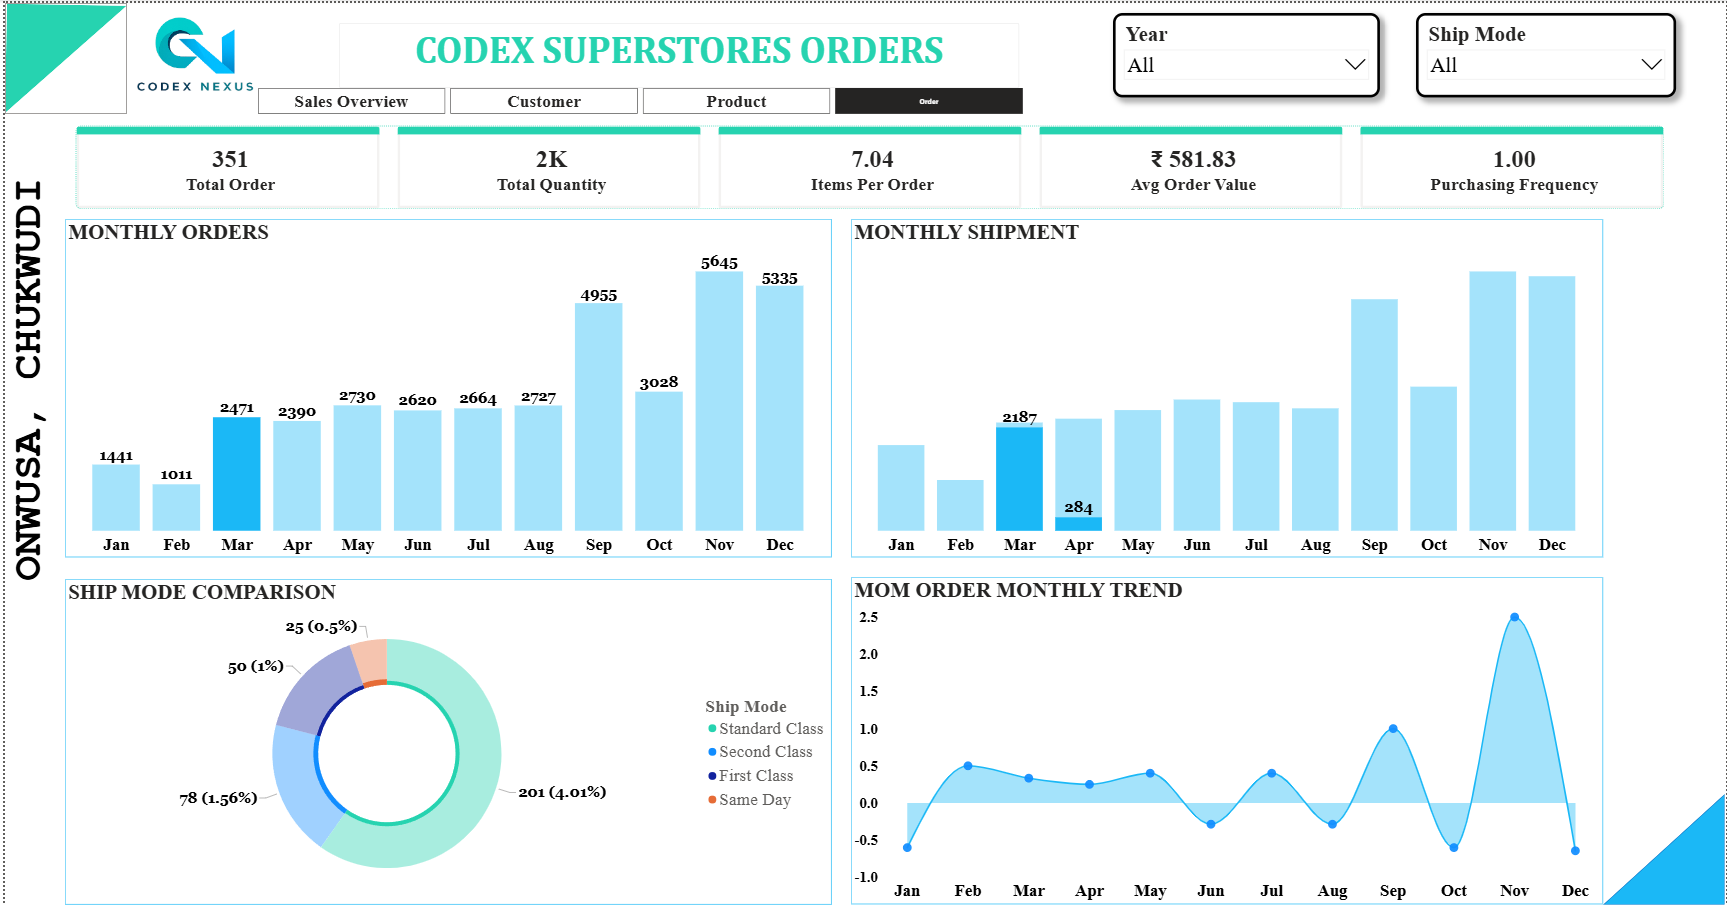

What the dashboard file says about the page in this screenshot:
{"tool":"powerbi","page":{"name":"Order","canvas":[3280,1720],"ordinal":3},"visuals":[{"type":"shape","box":[0,0,232.2,211.3],"z":0},{"type":"shape","box":[3047.8,1509,232.2,211.3],"z":1000},{"type":"shape","box":[0,199.4,87.2,1034.3],"z":2000},{"type":"textbox","box":[636.1,37.2,1297.1,124.1],"z":3000},{"type":"image","box":[232.2,0,250,199.4],"z":4000},{"type":"cardVisual","fields":{"Data":["My Measure.Total Order","My Measure.Total Quantity","My Measure.Items Per Order","My Measure.Avg Order Value","My Measure.Purchasing Frequency"]},"box":[114.6,213,3073,201],"z":5000},{"type":"clusteredColumnChart","title":"MONTHLY ORDERS","fields":{"Category":["Date Table.Short Month"],"Y":["My Measure.# Quantity Ordered"]},"box":[114.8,412.7,1461.6,645.4],"z":6000},{"type":"donutChart","title":"SHIP MODE COMPARISON","fields":{"Category":["dimOrder.Ship Mode"],"Y":["CountNonNull(dimOrder.Ship Mode)"]},"box":[114.8,1098.5,1461.6,620.6],"z":7000},{"type":"slicer","fields":{"Values":["Date Table.Year"]},"box":[2113.2,18.6,508.9,161.4],"z":8000},{"type":"clusteredColumnChart","title":"MONTHLY SHIPMENT","fields":{"Y":["My Measure.# Quantity Shipped"],"Category":["Shipping Date.Short Month"]},"box":[1613.6,412.7,1433.6,645.4],"z":9000},{"type":"slicer","fields":{"Values":["dimOrder.Ship Mode"]},"box":[2690.4,18.6,496.5,161.4],"z":10000},{"type":"lineChart","title":"MOM ORDER MONTHLY TREND","fields":{"Category":["Date Table.Short Month"],"Y":["My Measure.MOM Order %"]},"box":[1613.6,1095.4,1433.6,623.7],"z":11000},{"type":"pageNavigator","box":[482.4,162.1,1458.8,49.6],"z":12000}]}

Visuals, with their boxes in screenshot pixels (x1, y1, x2, y2), scaled from the page's 3280x1720 canvas onto the 1727x905 screenshot:
shape: <region>0, 0, 122, 111</region>
shape: <region>1605, 794, 1726, 904</region>
shape: <region>0, 105, 46, 649</region>
textbox: <region>335, 20, 1018, 85</region>
image: <region>122, 0, 254, 105</region>
cardVisual - My Measure.Total Order x My Measure.Total Quantity: <region>60, 112, 1678, 218</region>
"MONTHLY ORDERS" clusteredColumnChart: <region>60, 217, 830, 557</region>
"SHIP MODE COMPARISON" donutChart: <region>60, 578, 830, 904</region>
slicer - Date Table.Year: <region>1113, 10, 1381, 95</region>
"MONTHLY SHIPMENT" clusteredColumnChart: <region>850, 217, 1604, 557</region>
slicer - dimOrder.Ship Mode: <region>1417, 10, 1678, 95</region>
"MOM ORDER MONTHLY TREND" lineChart: <region>850, 576, 1604, 904</region>
pageNavigator: <region>254, 85, 1022, 111</region>
